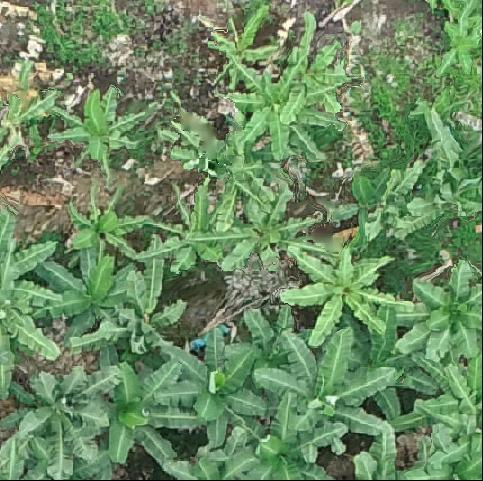Banana-plant: (251, 323, 397, 448), (276, 233, 412, 346), (0, 362, 126, 479), (88, 347, 209, 466), (159, 101, 278, 214), (159, 328, 269, 449), (0, 213, 68, 404), (229, 59, 347, 167), (389, 108, 483, 242), (218, 387, 348, 481), (27, 244, 152, 339), (66, 258, 187, 356), (139, 184, 256, 274), (39, 83, 144, 180), (218, 187, 322, 278), (264, 12, 346, 125), (398, 258, 483, 366), (350, 327, 442, 425), (414, 362, 483, 481), (64, 185, 150, 272), (201, 0, 276, 91), (0, 60, 58, 173), (226, 308, 300, 371), (439, 0, 483, 78)
